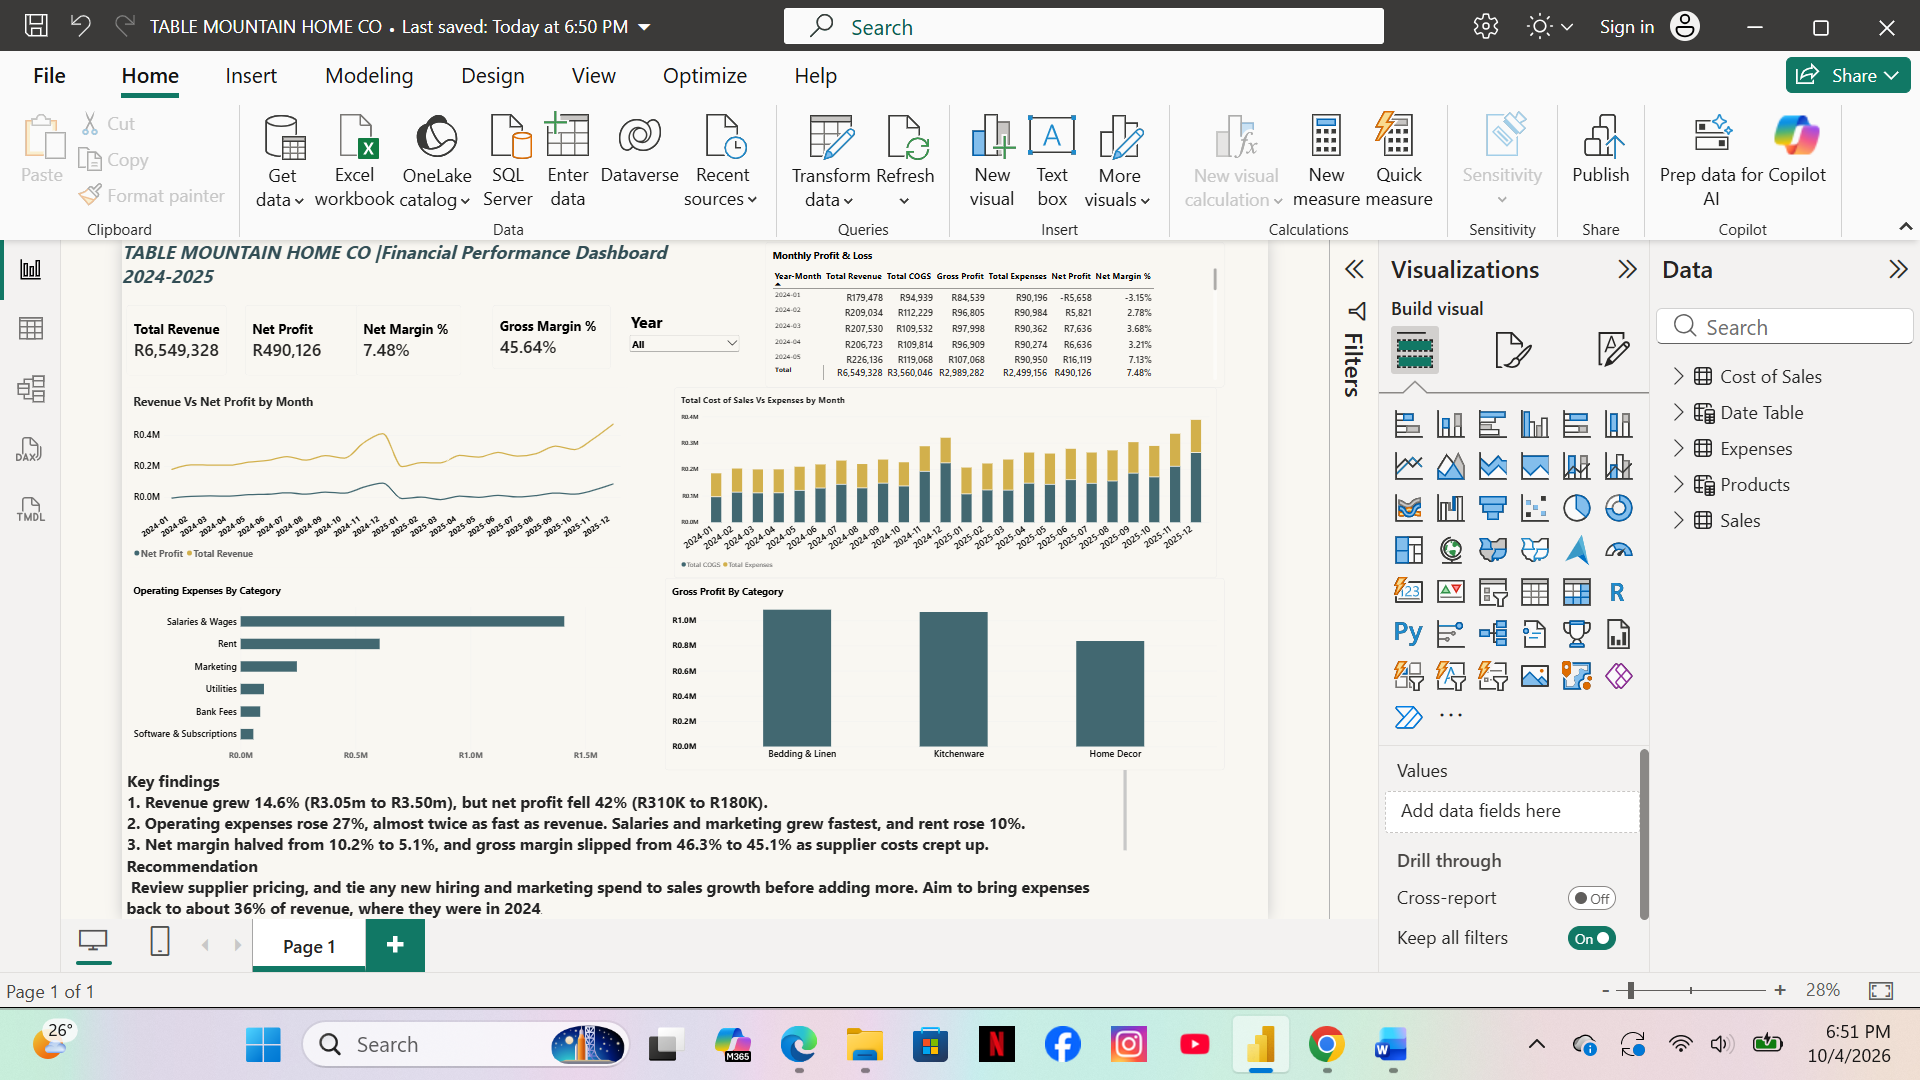

This screenshot's page, from the dashboard's own definition file:
{"tool":"powerbi","page":{"name":"Page 1","canvas":[2700,1600],"ordinal":0},"visuals":[{"type":"cardVisual","fields":{"Data":["Sales.Total Revenue"]},"box":[10.6,155.5,236.5,166.7],"z":0},{"type":"slicer","fields":{"Values":["Date Table.Year"]},"box":[1191.2,169.7,268.6,137.9],"z":1000},{"type":"cardVisual","fields":{"Data":["Sales.Net Profit"]},"box":[289.8,155.5,267.5,166.7],"z":2000},{"type":"cardVisual","fields":{"Data":["Sales.Net Margin %"]},"box":[551.4,155.5,248.2,166.7],"z":3000},{"type":"cardVisual","fields":{"Data":["Sales.Gross Margin %"]},"box":[873.1,155.5,279.2,151.2],"z":4000},{"type":"lineChart","title":" Revenue Vs Net Profit by Month","fields":{"Category":["Date Table.Year-Month"],"Y":["Sales.Net Profit","Sales.Total Revenue"]},"box":[10.6,349.9,1180.6,424.2],"z":5000},{"type":"columnChart","title":"Total Cost of Sales Vs Expenses by Month","fields":{"Category":["Date Table.Year-Month"],"Y":["Sales.Total COGS","Sales.Total Expenses"]},"box":[1300.8,349.9,1279.6,448.9],"z":6000},{"type":"clusteredBarChart","title":"Operating Expenses By Category","fields":{"Category":["Expenses.Category"],"Y":["Sales.Total Expenses"]},"box":[10.6,798.8,1180.6,452.4],"z":7000},{"type":"clusteredColumnChart","title":"Gross Profit By Category","fields":{"Category":["Products.Category"],"Y":["Sales.Gross Profit"]},"box":[1279.6,798.8,1318.4,452.4],"z":8000},{"type":"pivotTable","title":"Monthly Profit & Loss","fields":{"Rows":["Date Table.Year-Month"],"Values":["Sales.Total Revenue","Sales.Total COGS","Sales.Gross Profit","Sales.Total Expenses","Sales.Net Profit","Sales.Net Margin %"]},"box":[1516.4,7.1,1081.6,342.9],"z":9000},{"type":"textbox","box":[10.6,1251.3,2357.6,201.5],"z":10000},{"type":"textbox","box":[10.6,1452.8,2357.6,148.5],"z":11000},{"type":"textbox","box":[0,0,1350.3,120.2],"z":12000}]}

Visuals, with their boxes on the page's 2700x1600 design canvas (x1, y1, x2, y2). These are canvas units, not pixel positions in the 1920x1080 screenshot, which may show the page scaled, cropped or inside an application window:
cardVisual - Sales.Total Revenue: x1=11 y1=156 x2=247 y2=322
slicer - Date Table.Year: x1=1191 y1=170 x2=1460 y2=308
cardVisual - Sales.Net Profit: x1=290 y1=156 x2=557 y2=322
cardVisual - Sales.Net Margin %: x1=551 y1=156 x2=800 y2=322
cardVisual - Sales.Gross Margin %: x1=873 y1=156 x2=1152 y2=307
" Revenue Vs Net Profit by Month" lineChart: x1=11 y1=350 x2=1191 y2=774
"Total Cost of Sales Vs Expenses by Month" columnChart: x1=1301 y1=350 x2=2580 y2=799
"Operating Expenses By Category" clusteredBarChart: x1=11 y1=799 x2=1191 y2=1251
"Gross Profit By Category" clusteredColumnChart: x1=1280 y1=799 x2=2598 y2=1251
"Monthly Profit & Loss" pivotTable: x1=1516 y1=7 x2=2598 y2=350
textbox: x1=11 y1=1251 x2=2368 y2=1453
textbox: x1=11 y1=1453 x2=2368 y2=1601
textbox: x1=0 y1=0 x2=1350 y2=120
